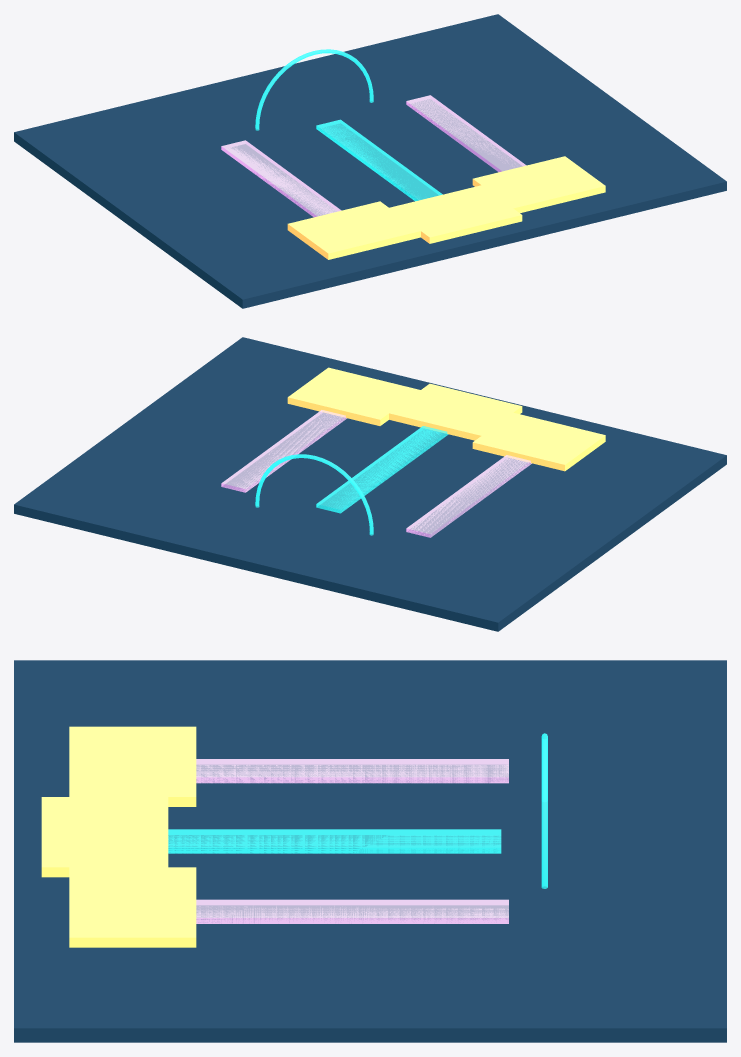
The model's file is ground-world-terrain-v1.candidate.glb.
3 renders of one model, top to bottom at view 1: azimuth 30°, elevation 25°; view 2: azimuth 150°, elevation 25°; view 3: azimuth 270°, elevation 25°, orthographic. The views are drawn at different scales.
Parts seen in each view (by area): view 1: ground-main-platform, ground-room-pad-left, ground-room-pad-center, ground-room-pad-right, memory-path-center, memory-path-left, memory-path-right, descent-landing-ring; view 2: ground-main-platform, ground-room-pad-left, ground-room-pad-right, ground-room-pad-center, memory-path-center, memory-path-left, memory-path-right, descent-landing-ring; view 3: ground-main-platform, ground-room-pad-right, ground-room-pad-left, ground-room-pad-center, memory-path-center, memory-path-left, memory-path-right, descent-landing-ring.
Boxes of the visible parts, <box> form: ground-main-platform: <box>14,14,726,308</box>; ground-room-pad-left: <box>287,201,420,259</box>; ground-room-pad-center: <box>389,185,522,243</box>; ground-room-pad-right: <box>472,156,605,213</box>; memory-path-center: <box>316,119,442,201</box>; memory-path-left: <box>221,140,341,217</box>; memory-path-right: <box>406,95,526,172</box>; descent-landing-ring: <box>255,49,373,130</box>; ground-main-platform: <box>14,337,726,631</box>; ground-room-pad-left: <box>472,412,605,471</box>; ground-room-pad-right: <box>287,367,420,425</box>; ground-room-pad-center: <box>389,383,522,440</box>; memory-path-center: <box>316,426,448,513</box>; memory-path-left: <box>406,455,531,537</box>; memory-path-right: <box>221,410,346,492</box>; descent-landing-ring: <box>255,454,373,535</box>; ground-main-platform: <box>14,660,726,1042</box>; ground-room-pad-right: <box>69,867,196,947</box>; ground-room-pad-left: <box>69,726,196,806</box>; ground-room-pad-center: <box>41,797,168,877</box>; memory-path-center: <box>168,829,501,853</box>; memory-path-left: <box>196,759,508,783</box>; memory-path-right: <box>196,899,508,923</box>; descent-landing-ring: <box>541,733,547,888</box>.
Size of the model in its own units: 22 by 5.36 by 18.
